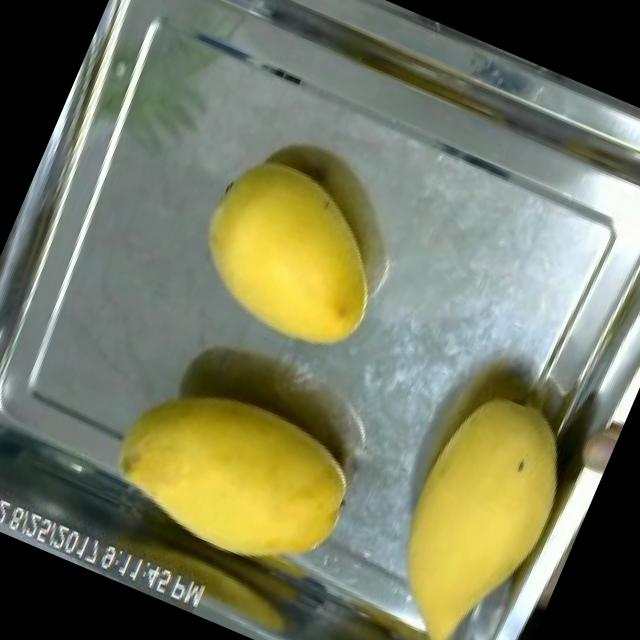fruit: (79, 342, 392, 610), (338, 354, 611, 640), (164, 126, 423, 378)
